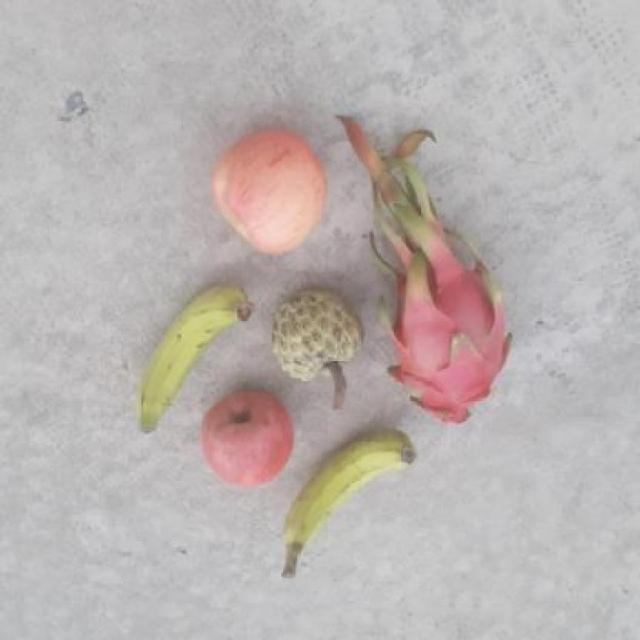apple: (214, 127, 337, 258), (174, 397, 291, 489)
banana: (131, 271, 251, 440), (282, 427, 422, 561)
dragon fruit: (396, 274, 512, 428)
sugar apple: (273, 288, 365, 380)
